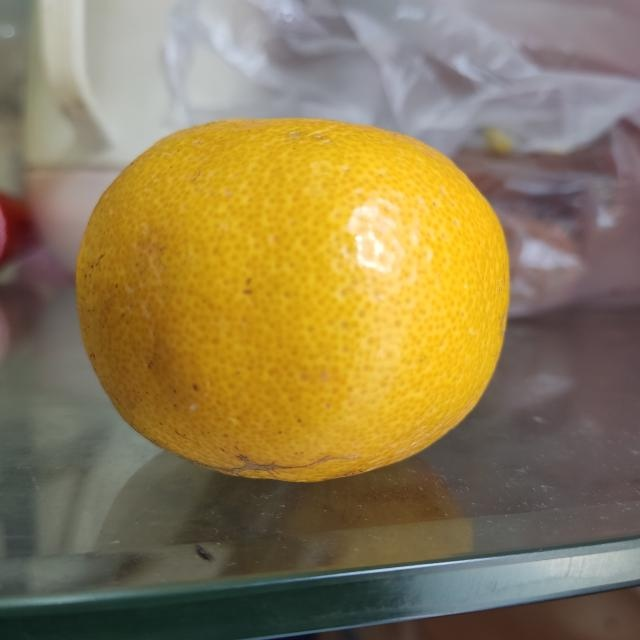agrume: (73, 112, 518, 487)
